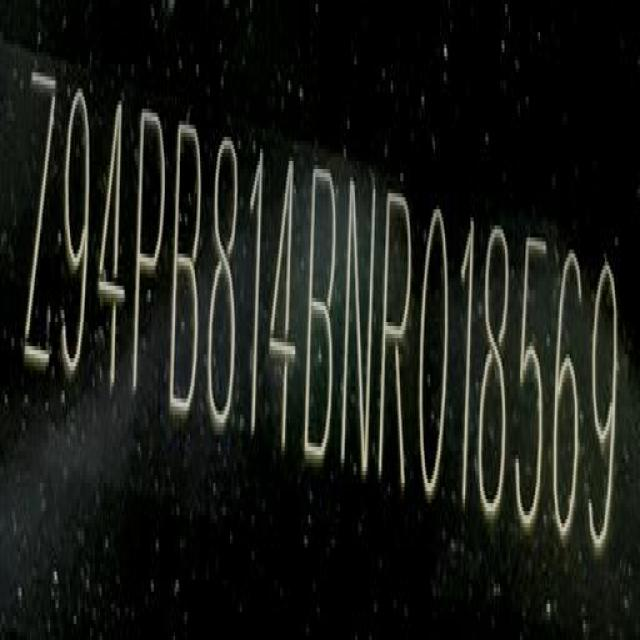0: (418, 201, 450, 504)
1: (247, 146, 265, 435), (458, 208, 472, 522)
4: (95, 96, 126, 389), (270, 155, 298, 452)
5: (514, 229, 548, 536)
6: (552, 228, 582, 549)
8: (208, 134, 241, 441), (479, 216, 509, 528)
9: (58, 74, 92, 393), (586, 255, 620, 552)
B: (304, 166, 338, 471), (170, 103, 202, 423)
N: (341, 174, 377, 482)
P: (132, 102, 165, 406)
R: (380, 189, 412, 492)
Z: (23, 56, 57, 388)
